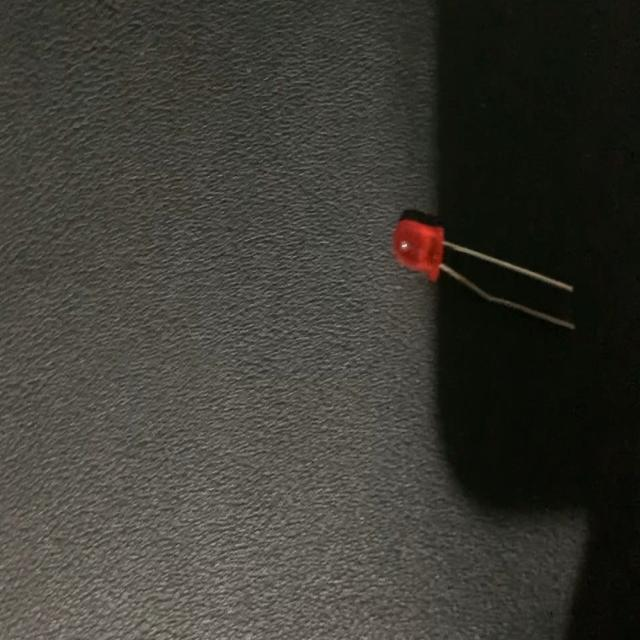LED: (392, 216, 574, 332)
